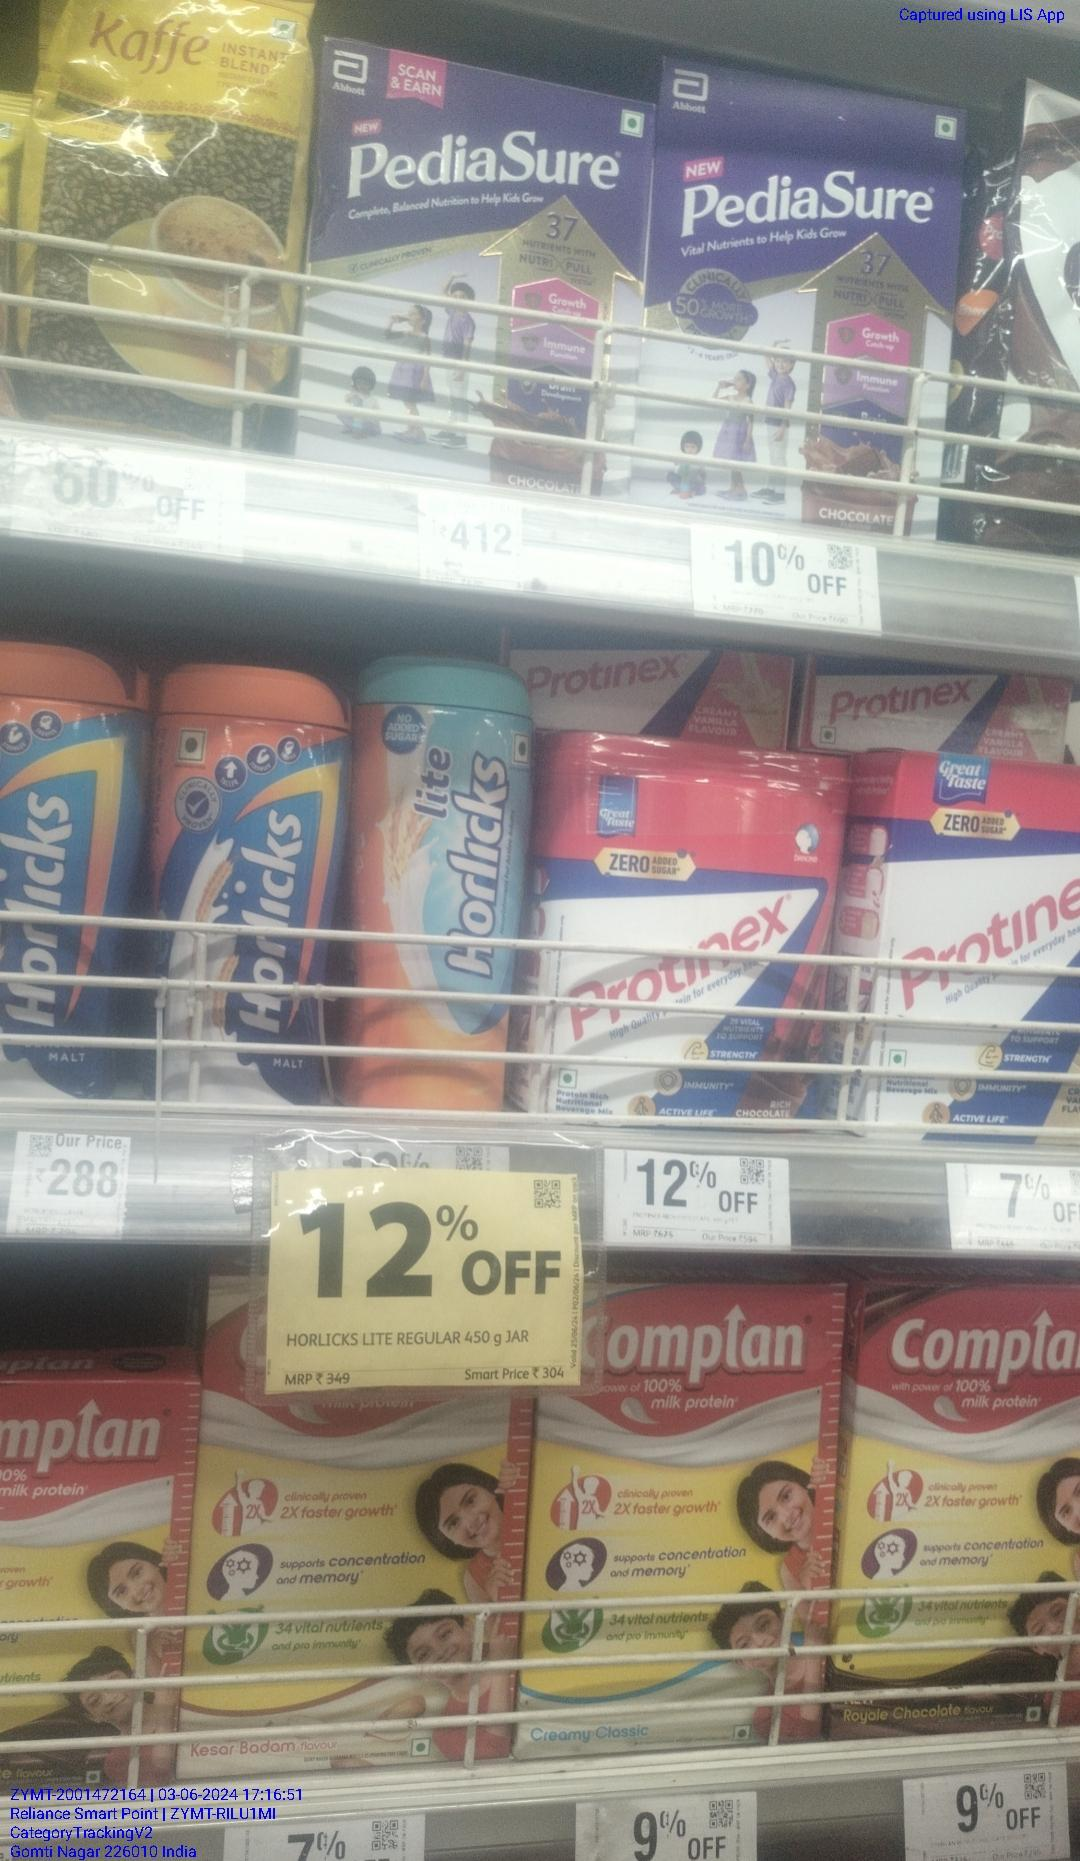COMPLAN_CHOCOLATE_1_KG_PACK: (852, 1271, 1080, 1734)
COMPLAN_CREAMY_CLASSIC_500_G_PACK: (531, 1394, 823, 1743)
COMPLAN_KESAR_BADAM_500_GMS_PACK: (194, 1356, 518, 1772)
HORLICKS_LITE_REGULAR_MALT_500_GM_JAR: (348, 646, 512, 1109)
HORLICK_CLASSIC_MALT_500_G_JAR: (159, 666, 327, 1117), (0, 648, 129, 1121)
PROTINEX_CHOCOLATE_400_G_JAR: (555, 731, 824, 1122)
